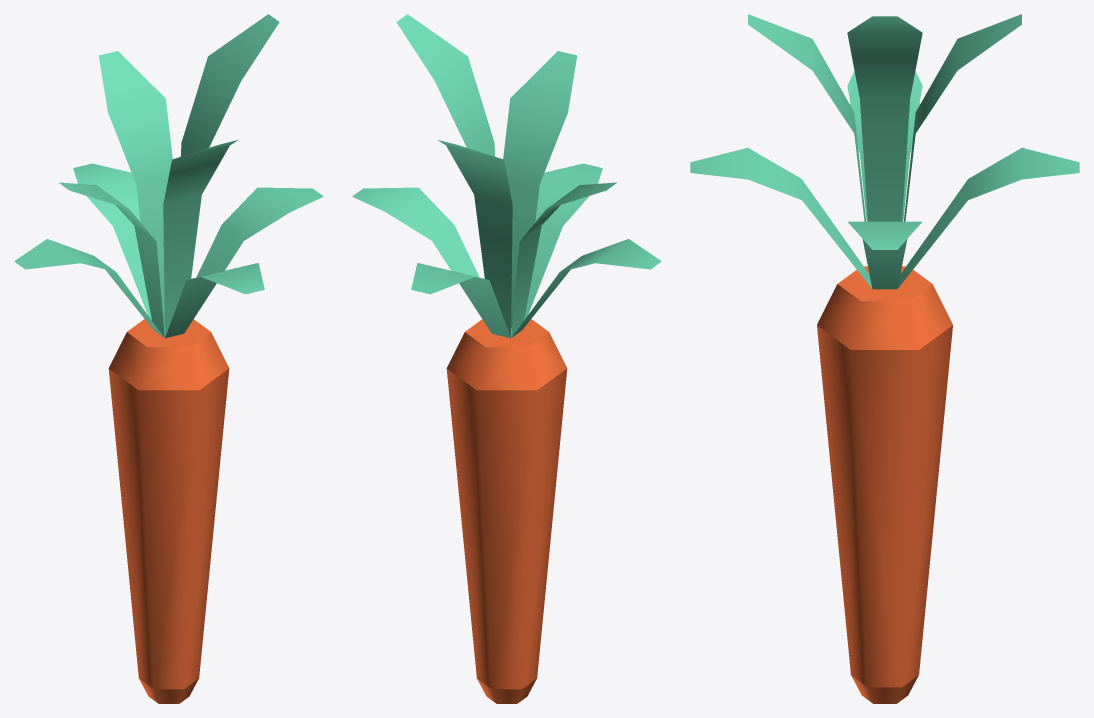
File: Carrot.glb
3 renders of one model, left to right at view 1: azimuth 30°, elevation 25°; view 2: azimuth 150°, elevation 25°; view 3: azimuth 270°, elevation 25°, orthographic. The views are drawn at different scales.
Visible parts, largest first — view 1: carrot; view 2: carrot; view 3: carrot.
Part boxes in pixels (bbox=[...]): carrot: bbox=[14, 14, 323, 703]; carrot: bbox=[352, 14, 661, 703]; carrot: bbox=[690, 14, 1079, 703].
Bounding box in the file's own units: 0.3431 × 0.7163 × 0.3431.
